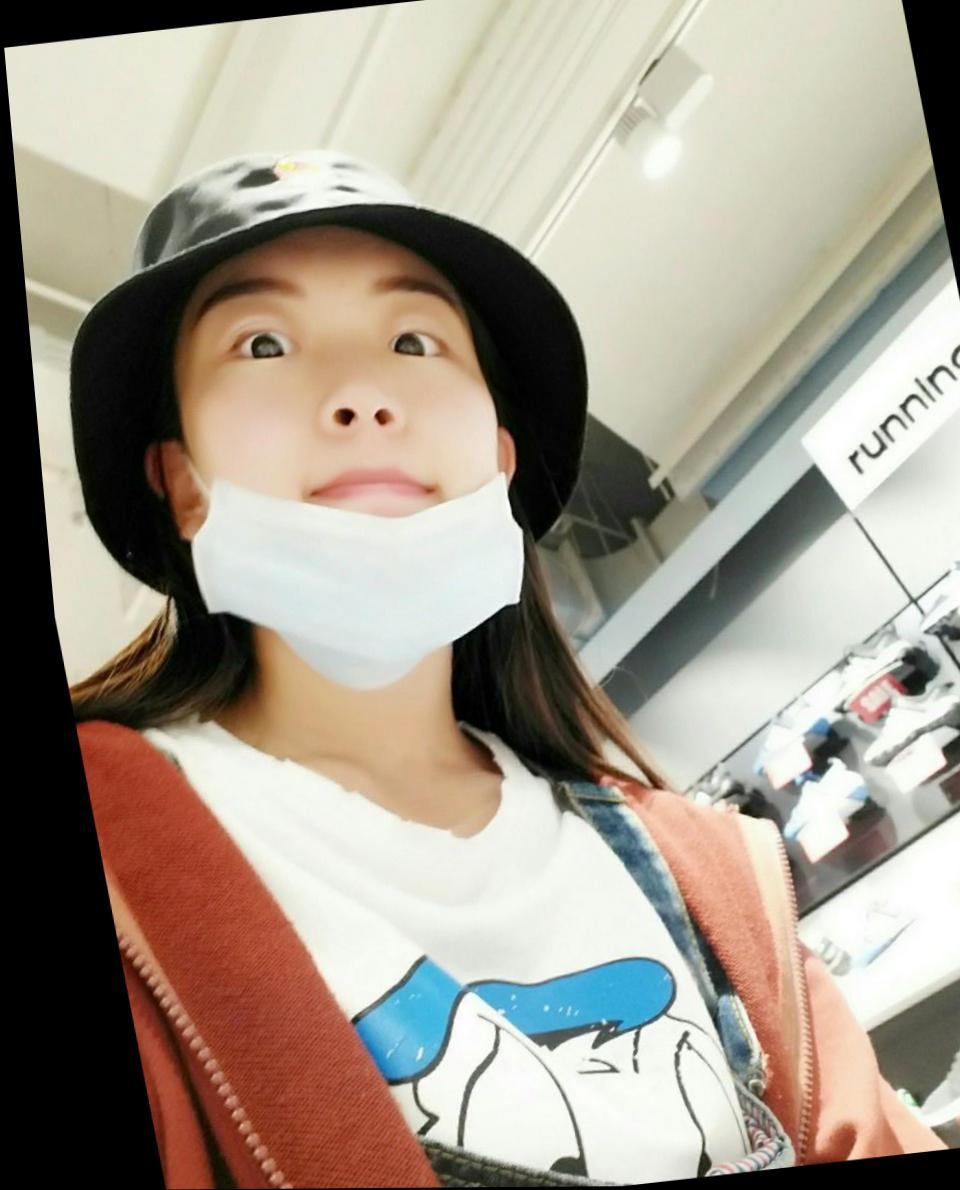WRONG: (152, 241, 527, 643)
